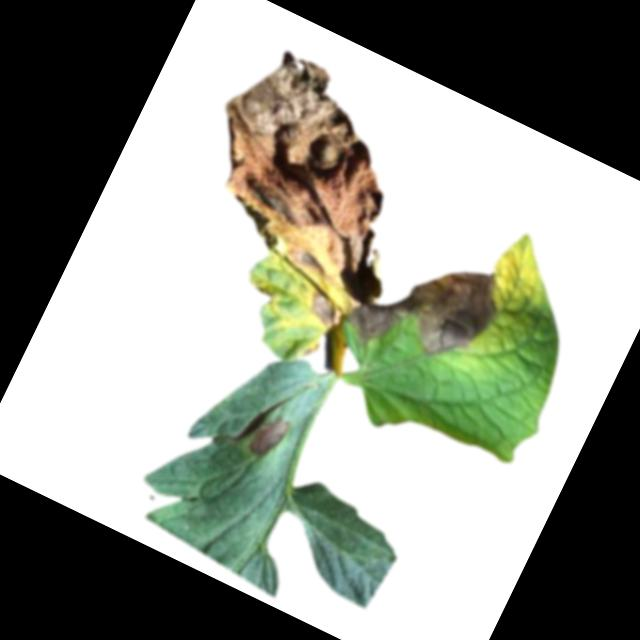Early_blight: (173, 36, 429, 291), (343, 227, 512, 388), (246, 409, 292, 462), (302, 291, 342, 330), (300, 338, 321, 361)
